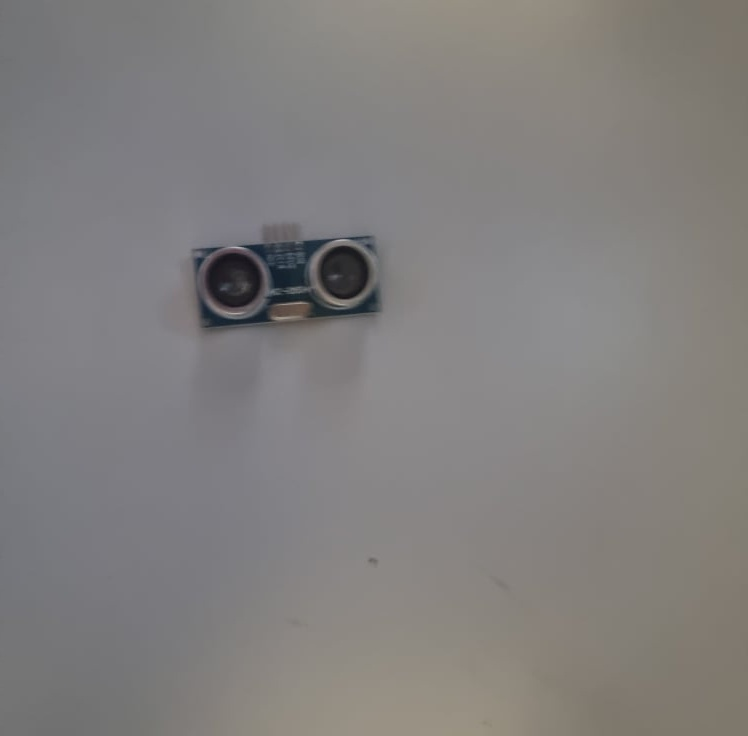SENSOR: (190, 222, 382, 334)
